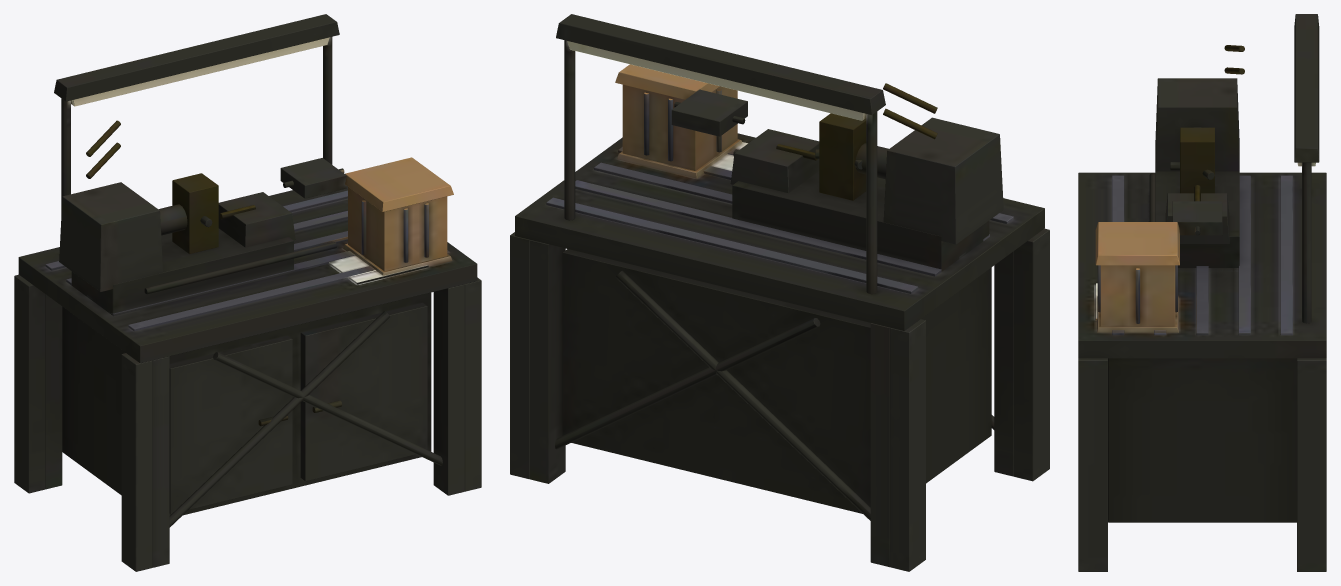
The model's file is DD_workbench3_L0.glb.
3 views of the same model, side by side, from view 1: azimuth 30°, elevation 25°; view 2: azimuth 150°, elevation 25°; view 3: azimuth 270°, elevation 25° (orthographic). The views are drawn at different scales.
Visible parts, largest first — view 1: DD_workbench3_L0; view 2: DD_workbench3_L0; view 3: DD_workbench3_L0.
Part boxes in pixels (x1,y1,x2,y2): DD_workbench3_L0: [14, 14, 481, 571]; DD_workbench3_L0: [510, 14, 1049, 571]; DD_workbench3_L0: [1078, 14, 1326, 571].
Bounding box in the file's own units: 1.64 × 1.8 × 1.
Materials: 1 (1 with a texture image).
